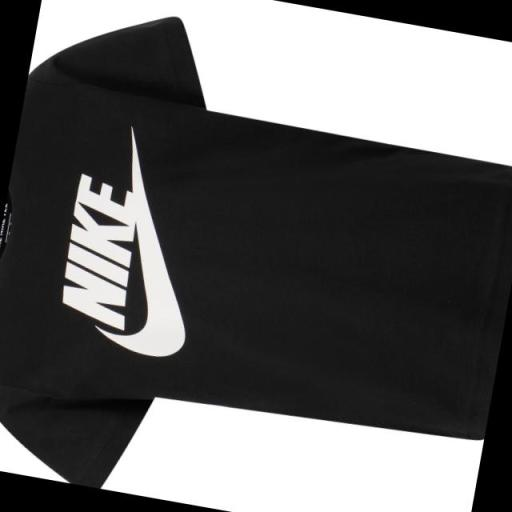Nike: (108, 170, 214, 363), (53, 168, 155, 332)
